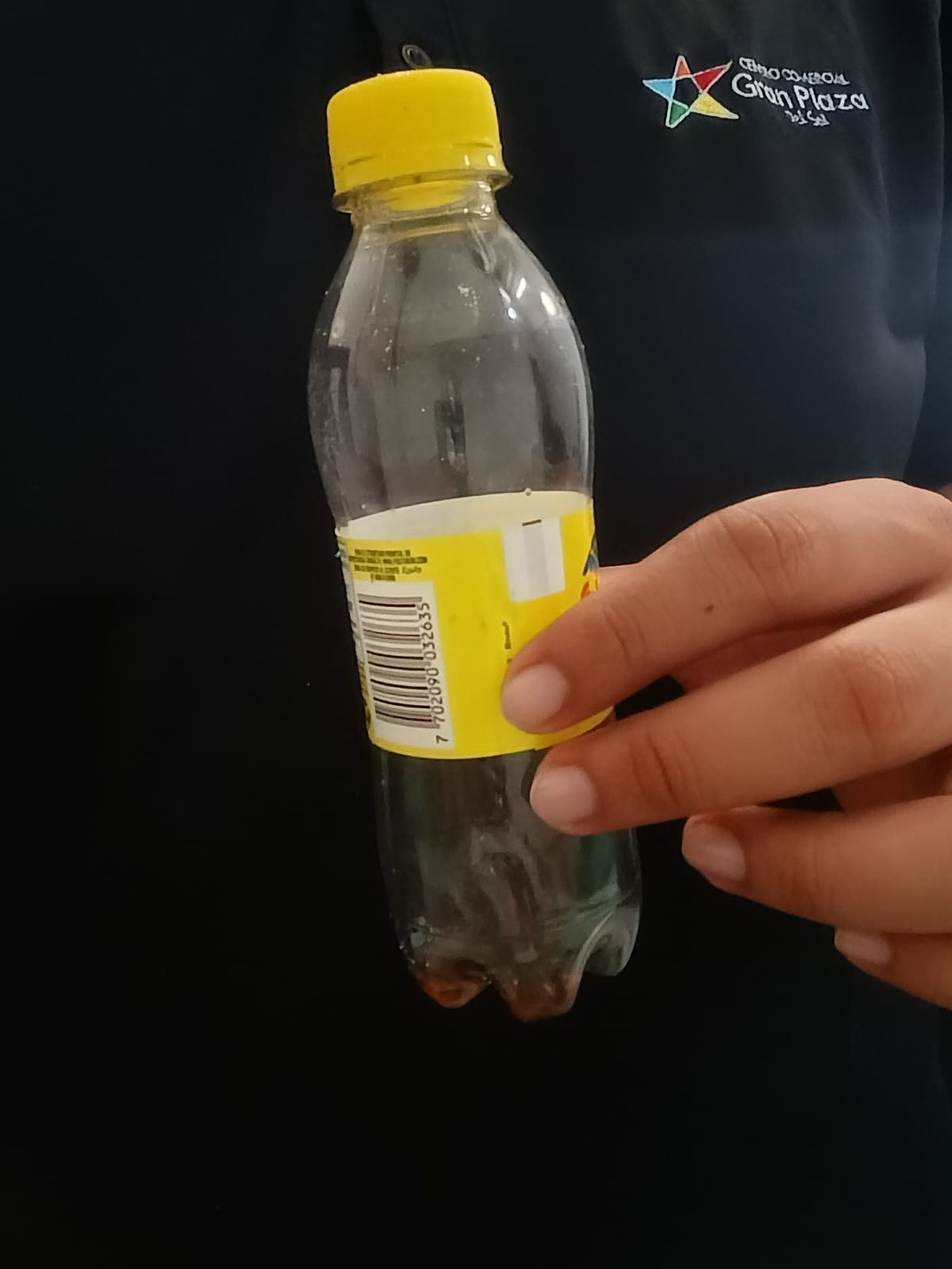Plastico: (304, 69, 641, 1014)
